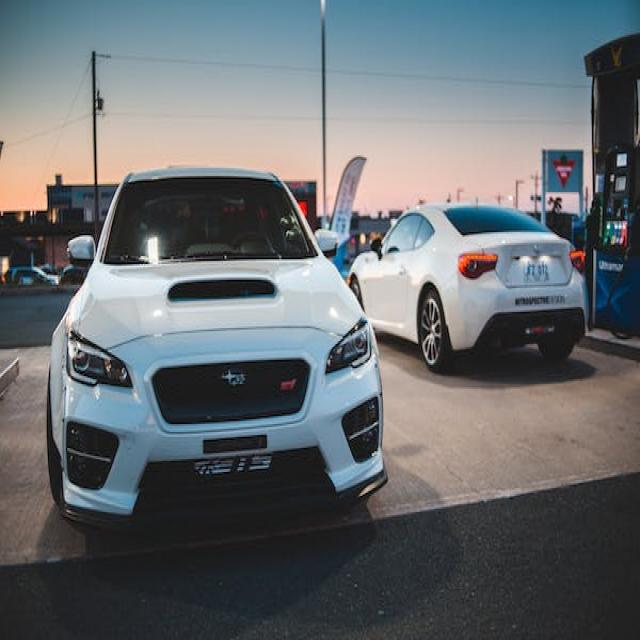yolov7-seg-car: (46, 168, 389, 536)
